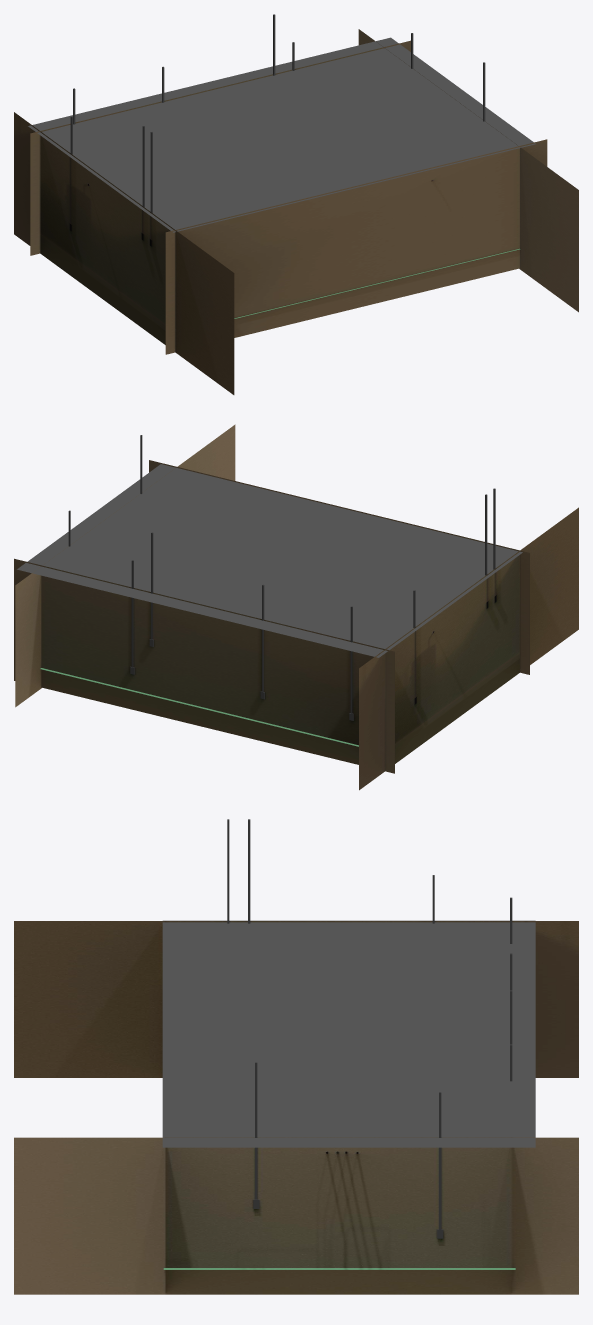
Rendered from milk line no pipes v006.glb.
The picture shows the model from 3 angles, top to bottom: view 1: azimuth 30°, elevation 25°; view 2: azimuth 150°, elevation 25°; view 3: azimuth 270°, elevation 25°; orthographic projection. The views are drawn at different scales.
Visible parts, largest first — view 1: Plane.006, Plane.002, Plane.004, Plane.003, Plane.001; view 2: Plane.006, Plane.001, Plane.004, Plane.003, Plane.002, Plane; view 3: Plane.003, Plane.006, Plane.004, Plane.
Boxes of the visible parts, left/top/right/bottom form: Plane.006: left=28, top=37, right=535, bottom=232; Plane.002: left=165, top=139, right=547, bottom=354; Plane.004: left=14, top=112, right=234, bottom=394; Plane.003: left=358, top=29, right=578, bottom=312; Plane.001: left=30, top=40, right=410, bottom=255; Plane.006: left=17, top=464, right=522, bottom=657; Plane.001: left=14, top=558, right=394, bottom=773; Plane.004: left=359, top=507, right=578, bottom=790; Plane.003: left=15, top=424, right=235, bottom=707; Plane.002: left=149, top=460, right=529, bottom=674; Plane: left=40, top=668, right=358, bottom=746; Plane.003: left=14, top=1137, right=578, bottom=1294; Plane.006: left=162, top=920, right=535, bottom=1147; Plane.004: left=14, top=921, right=578, bottom=1077; Plane: left=163, top=1268, right=515, bottom=1269.
Size of the model in its own units: 14.51 by 8.06 by 14.51.
28 materials, 18 textured.
